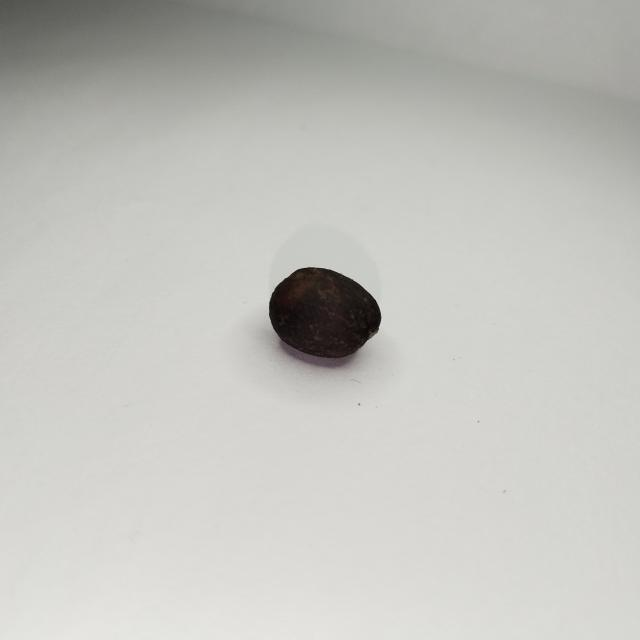Danado: (269, 268, 381, 360)
